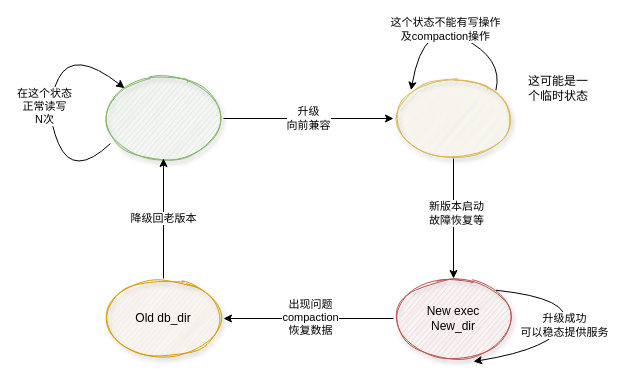
The diagram is 626 pixels wide and 384 high, and some of its shapes have lost their labels. The shapes that lost their labels are listed below. From the top down, each one's centre as x and y in pixels, then its label:
At pixel 164 120: "Old exec Old db_dir".
At pixel 454 120: "New exec Old_dir".
